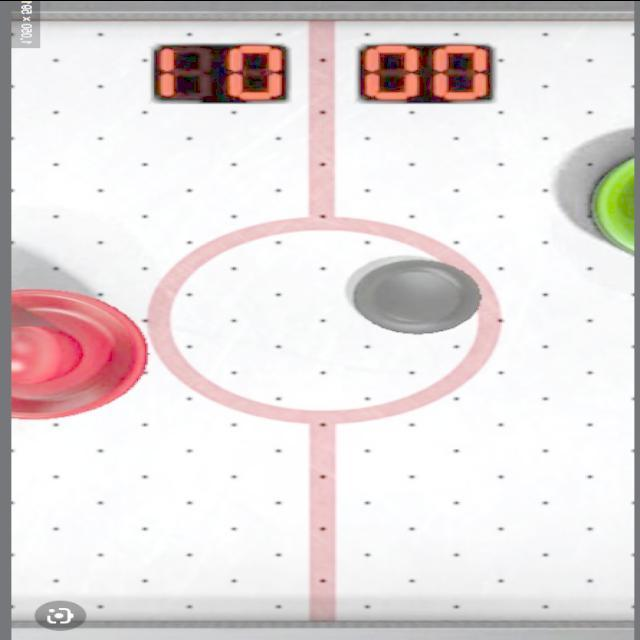chip: (351, 259, 481, 338)
